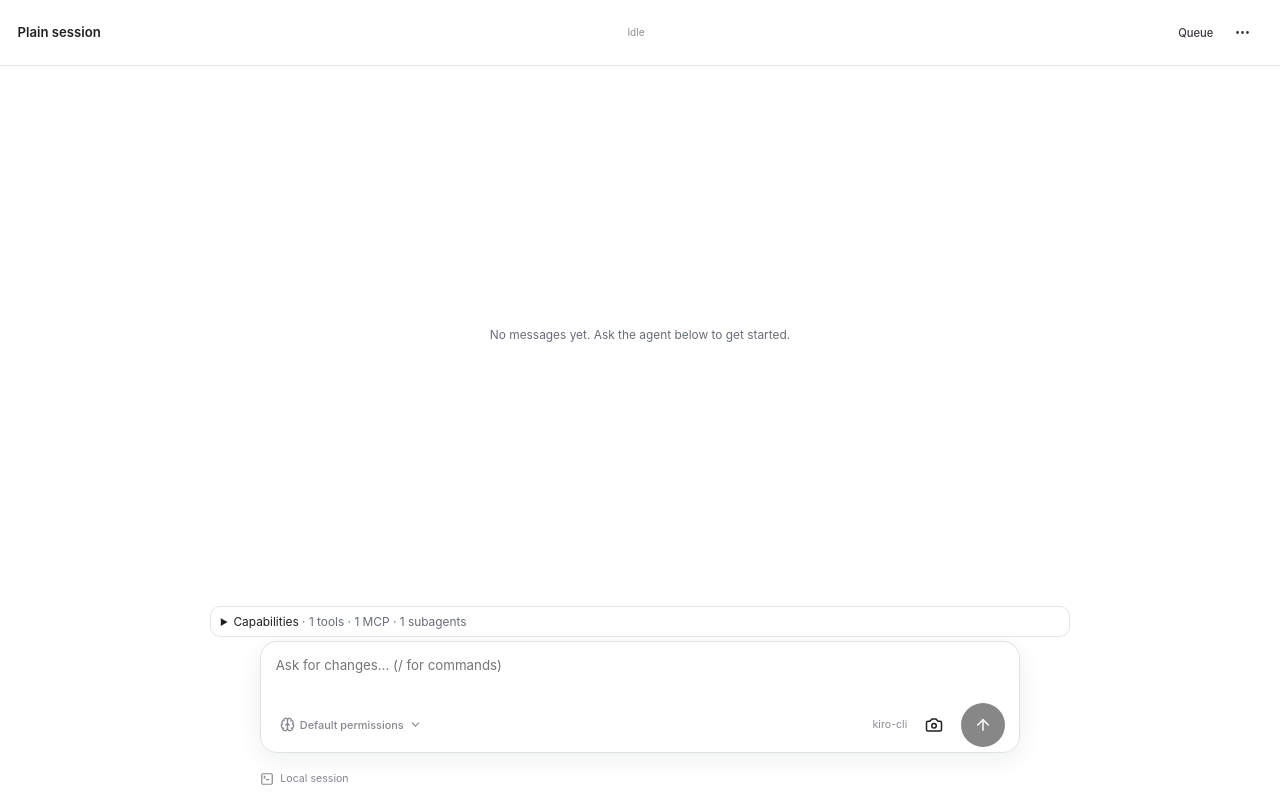
Test: SessionPane — capability palette › opens a palette of commands and prompts when typing '/'
Type "/" into the dropdown named "prompt". click: coordinates (642, 677)
box: top-left (274, 654), bottom-right (1010, 699)
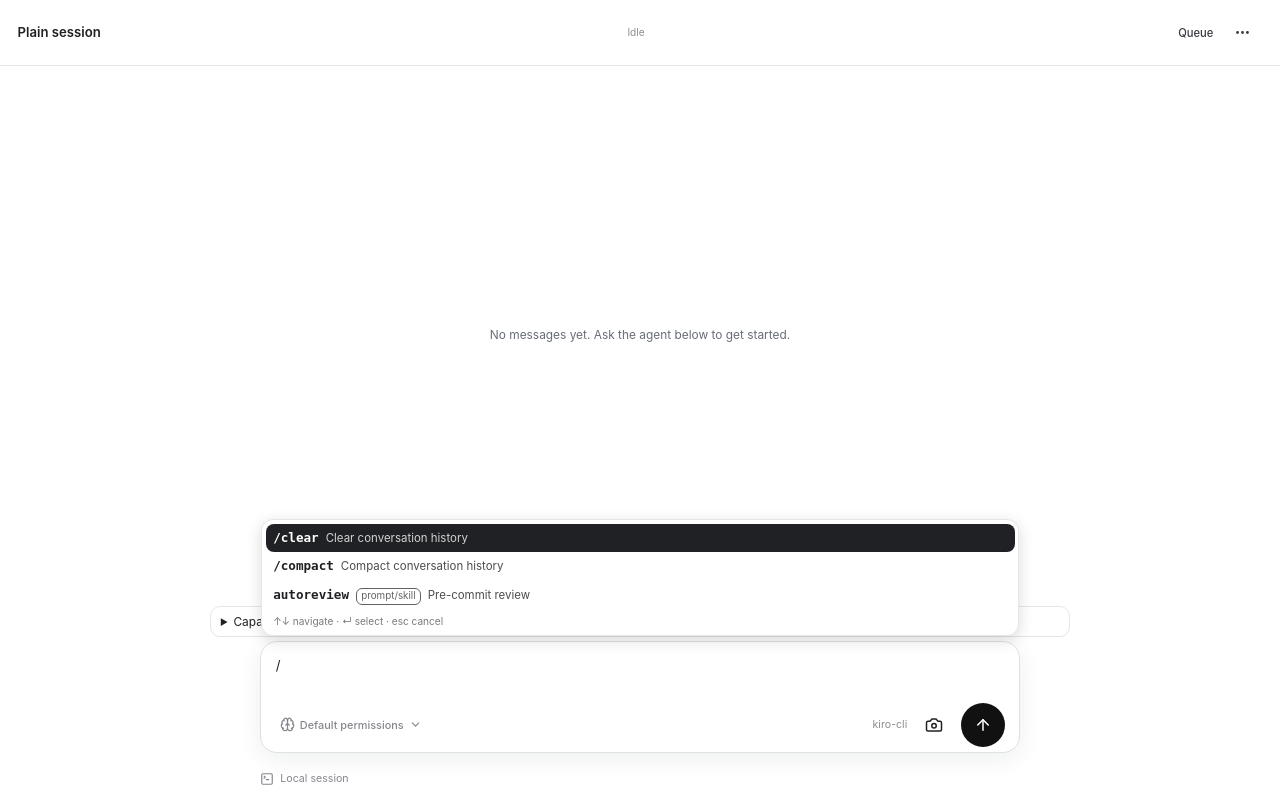
Expected: the list named "commands and prompts" shows "/clear", top-left (273, 530), bottom-right (319, 544)
Expected: the list named "commands and prompts" shows "/compact", top-left (273, 558), bottom-right (334, 573)
Expected: the list named "commands and prompts" shows "autoreview", top-left (273, 587), bottom-right (349, 602)
